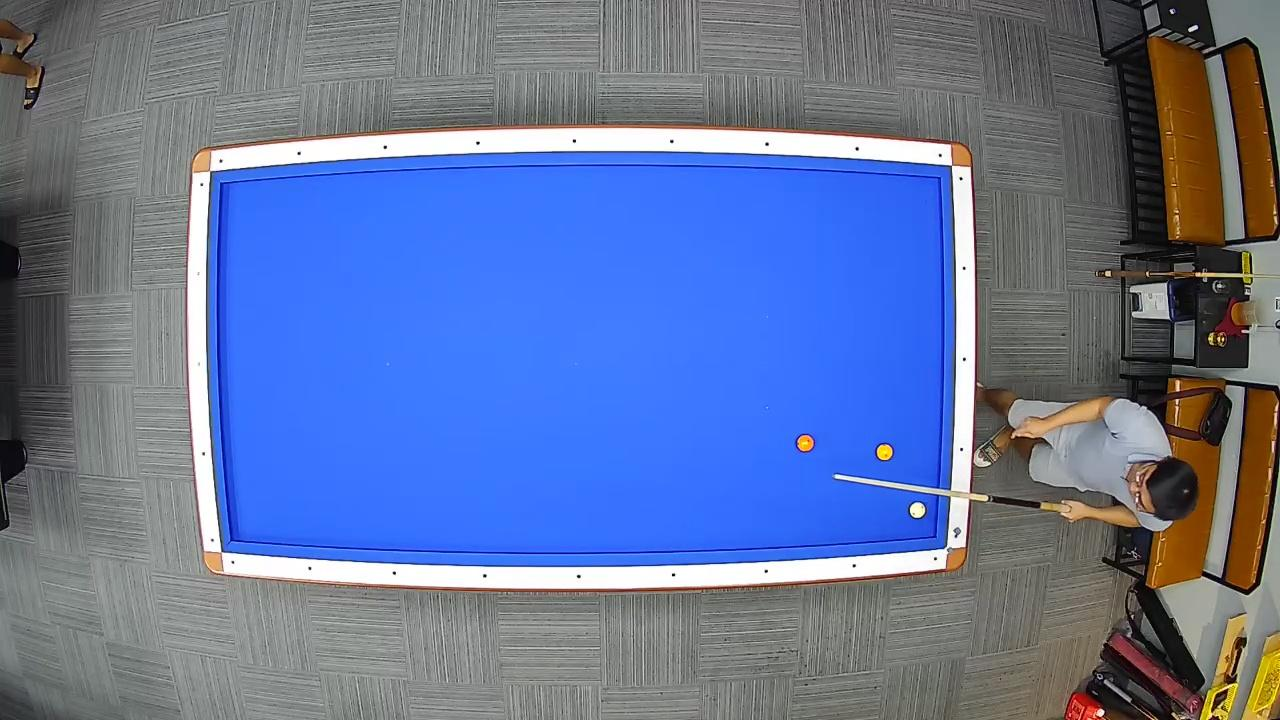Orange: (795, 435, 815, 456)
White: (908, 500, 930, 522)
Yellow: (874, 442, 895, 463)
